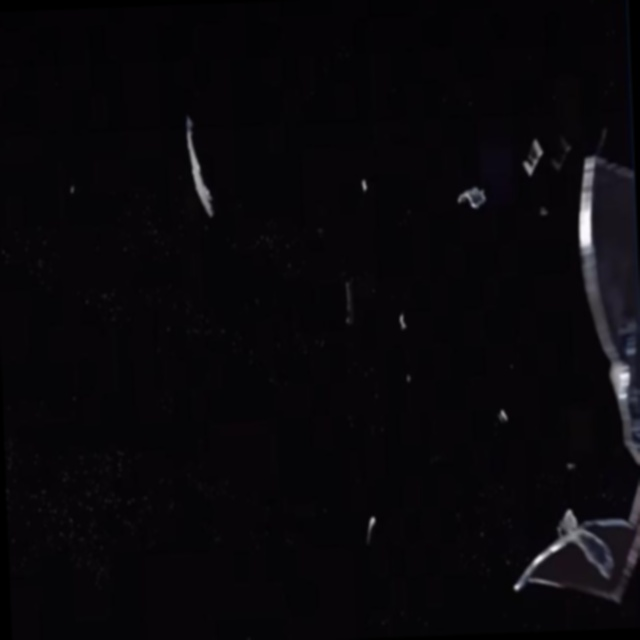large_debris: (515, 181, 640, 622), (184, 128, 227, 222), (517, 117, 552, 179), (457, 164, 492, 220), (341, 261, 363, 332)
